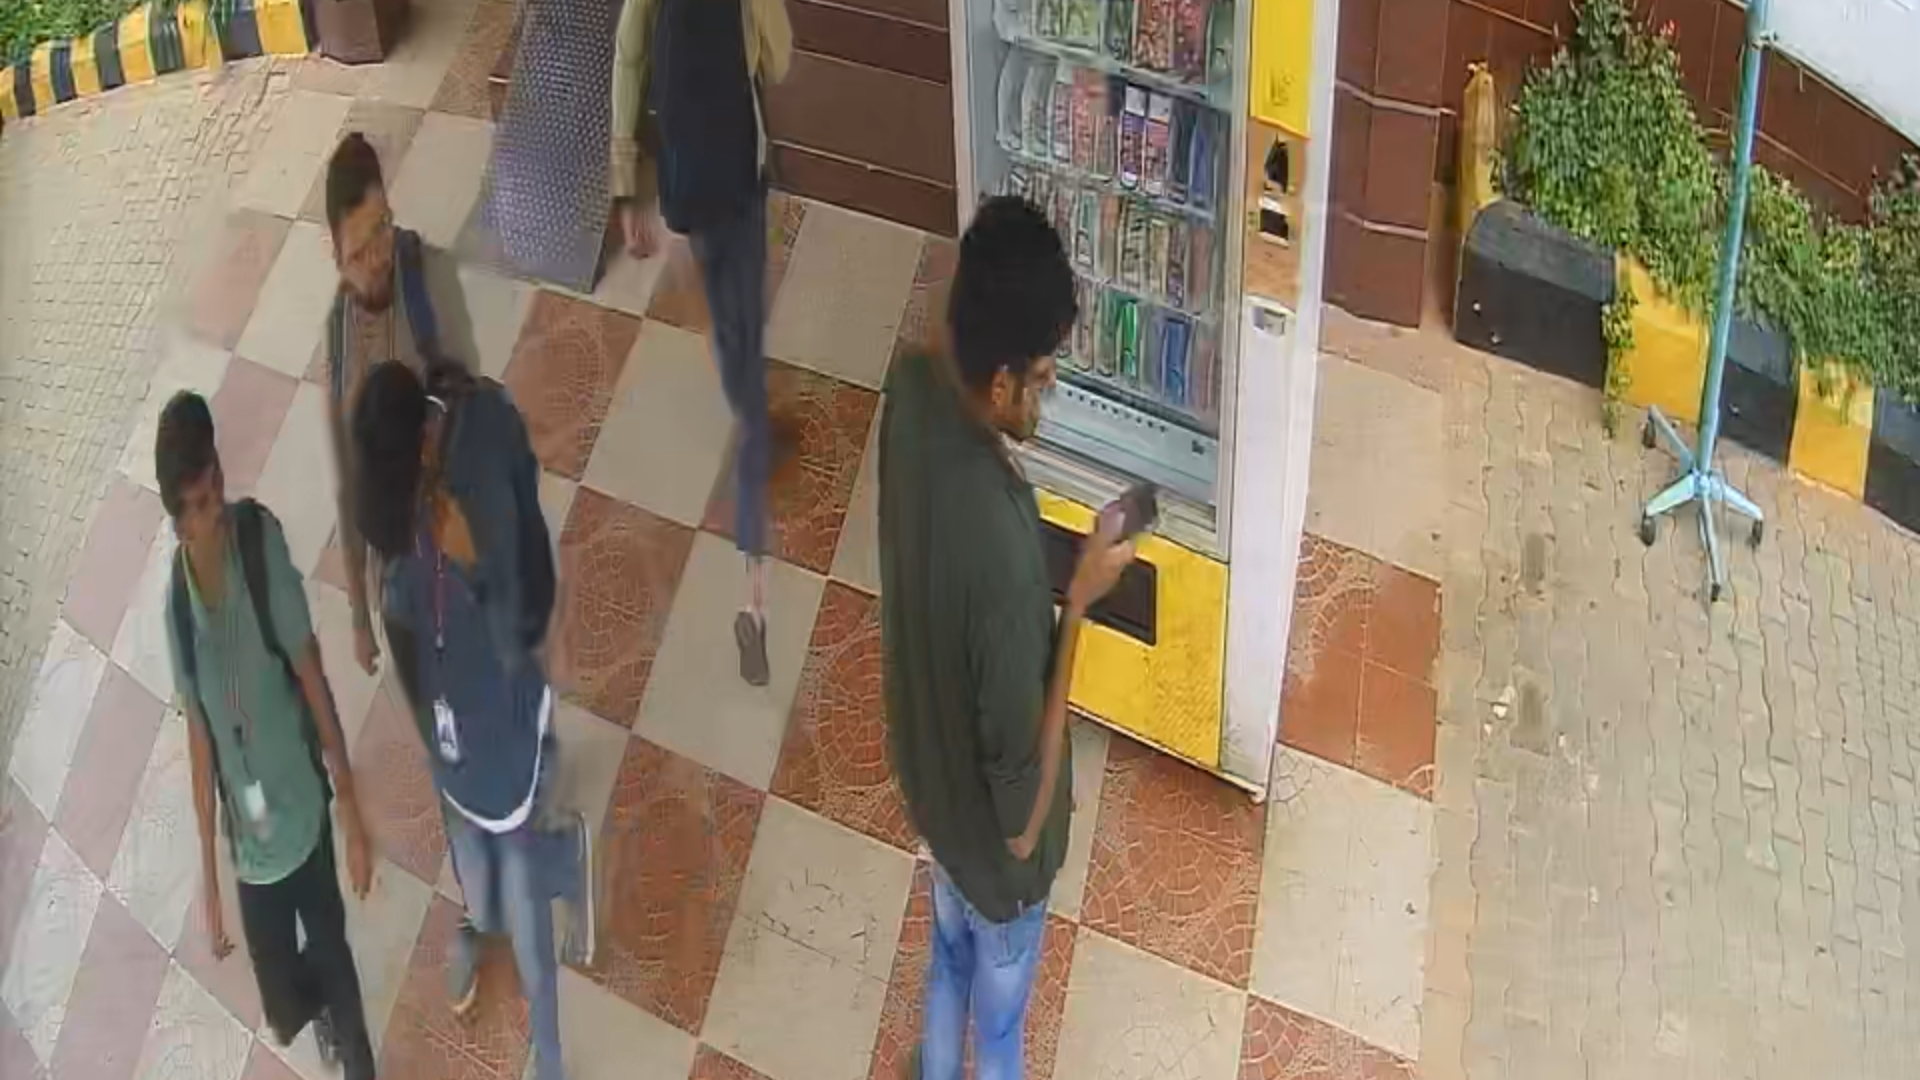intruder: (297, 120, 521, 436)
not intruder: (142, 378, 402, 1080), (343, 349, 597, 1044)
